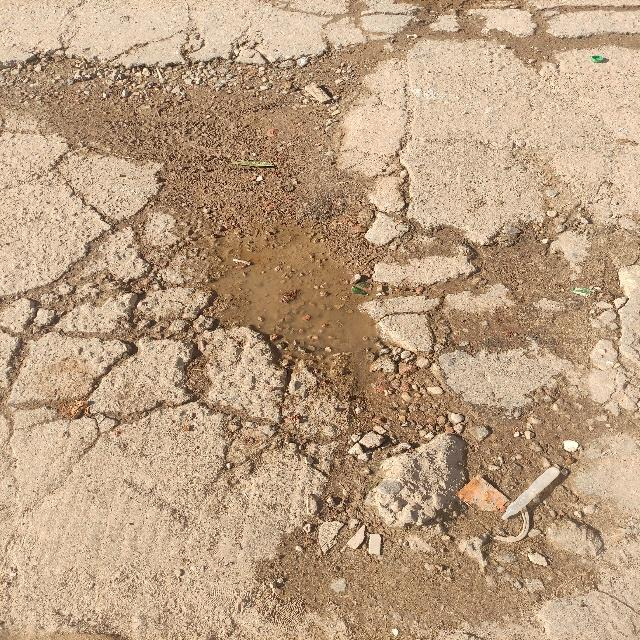Surface Erosion: (2, 2, 640, 596)
